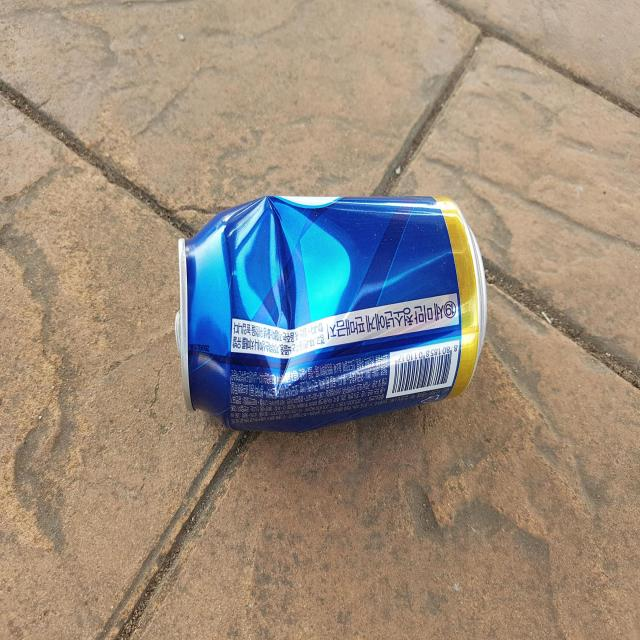can: (175, 196, 487, 432)
